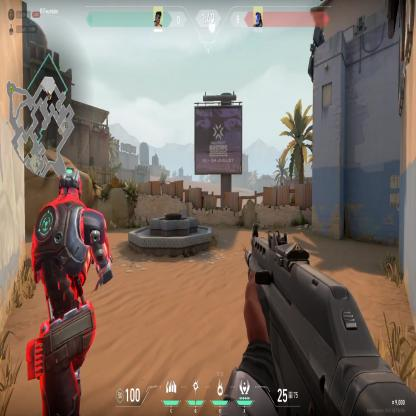enemy: (22, 164, 114, 354)
